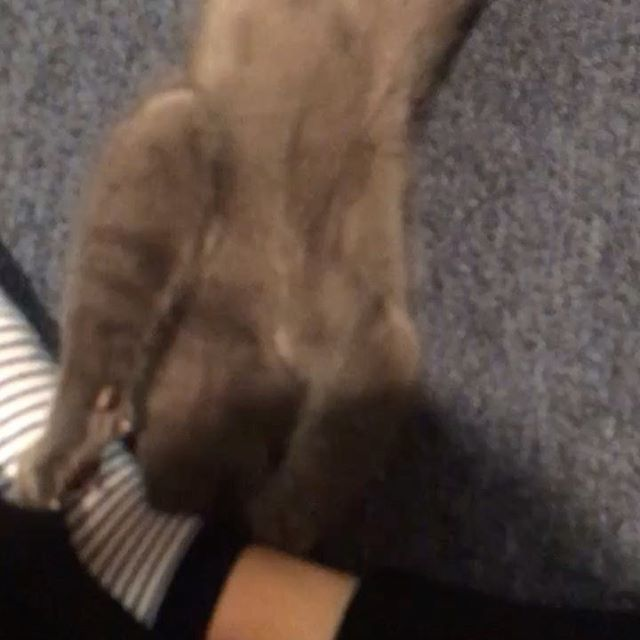cat: (97, 282, 353, 538)
